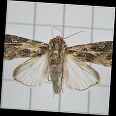Spodoptera litura: (3, 27, 112, 99)
